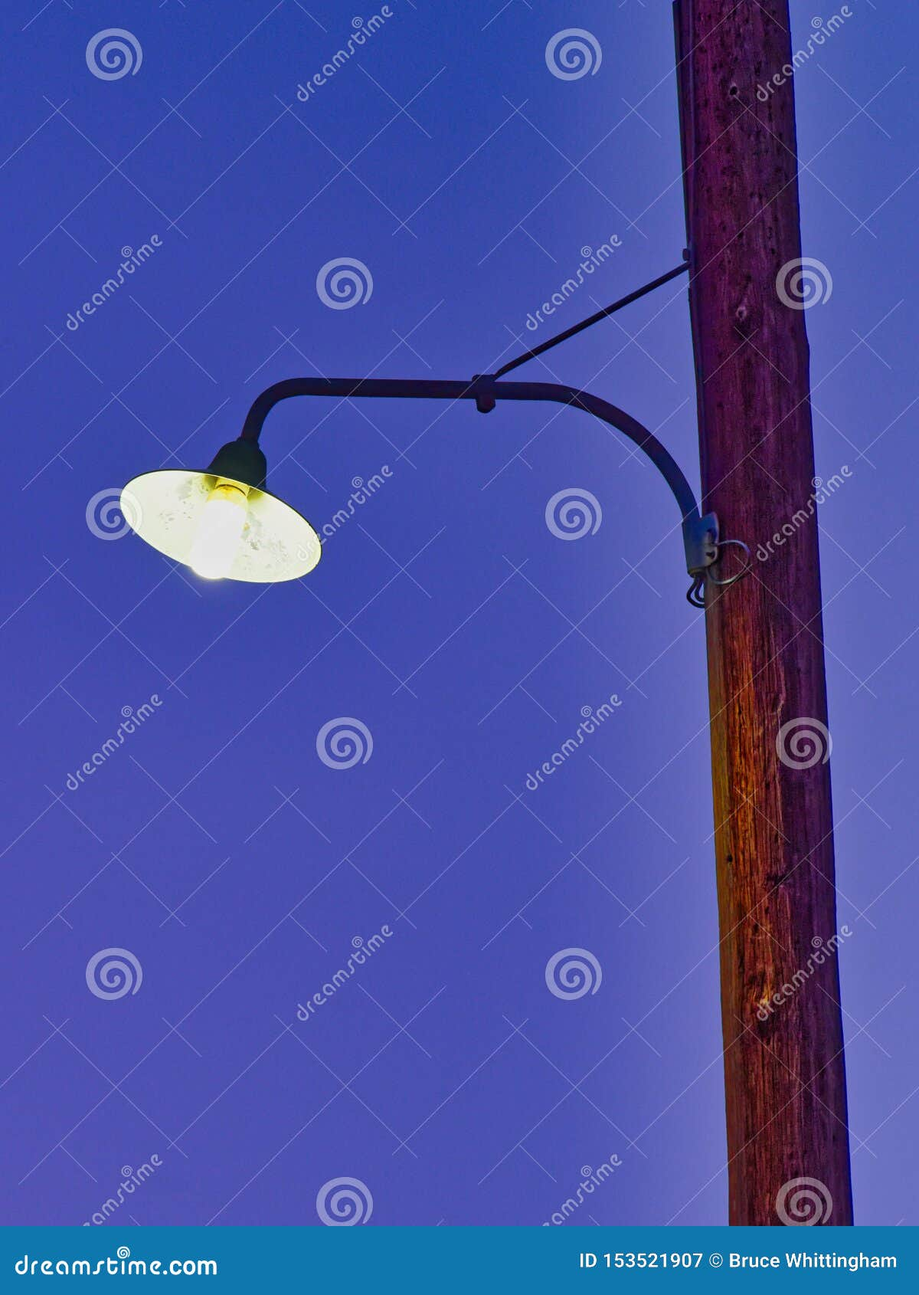light_pole: (602, 0, 889, 1231)
